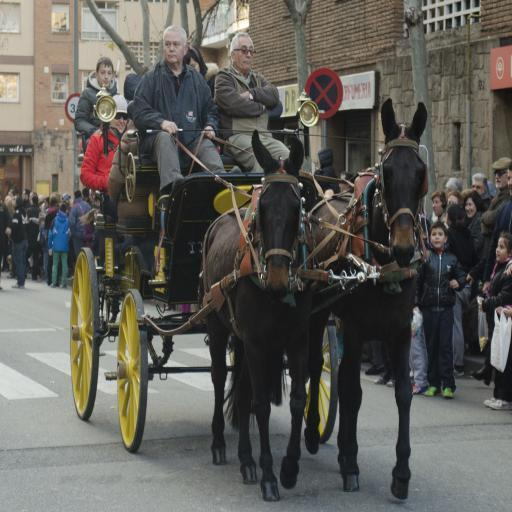horse: (301, 96, 427, 502), (202, 128, 310, 505)
